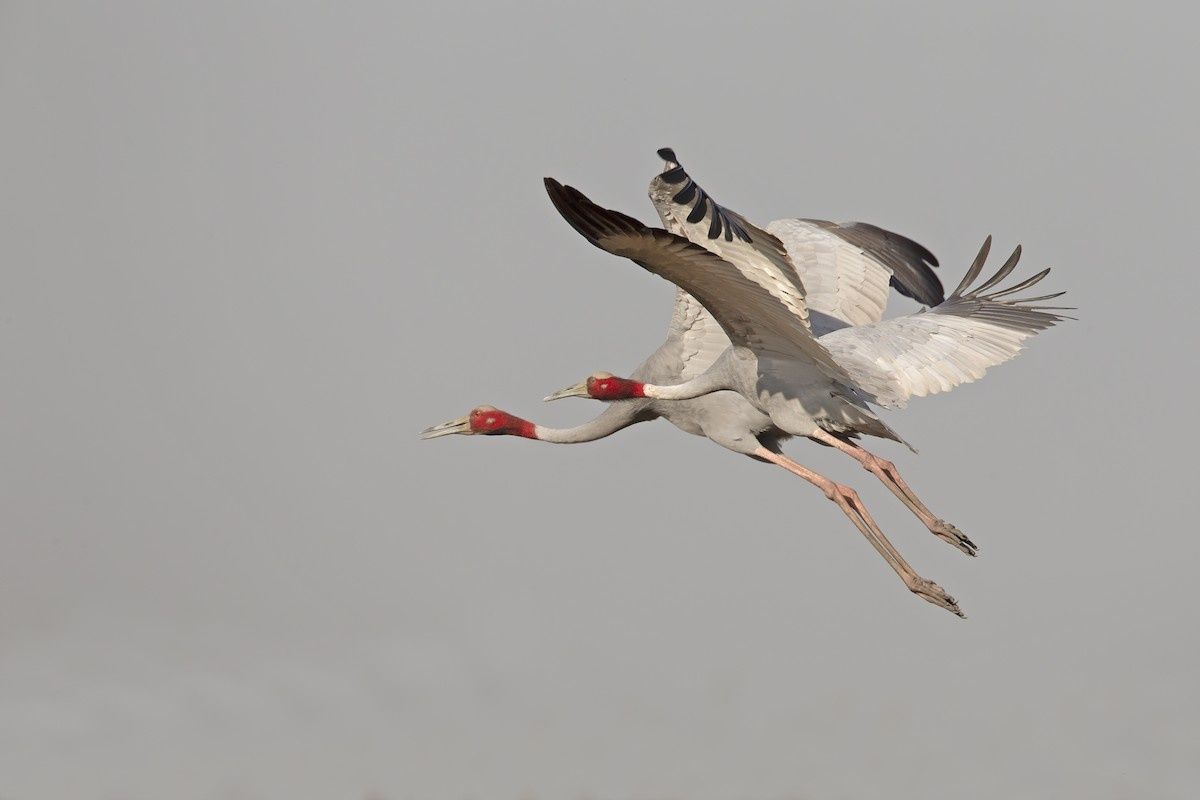crane: (538, 170, 1090, 572), (402, 340, 586, 468)
